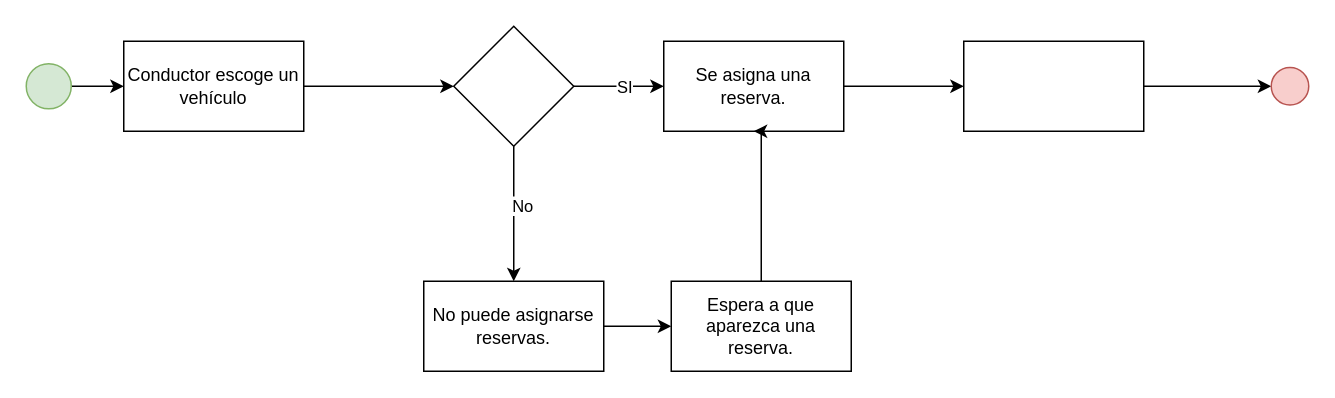
The diagram is 1335 pixels wide and 398 high, and some of its shapes have lost their labels. Each missing label, with the centre of its shape:
"Hay reservas disponibles?" belongs at point 513,85.
"Le aparecen los datos de la reserva y el pasajero." belongs at point 1053,85.
